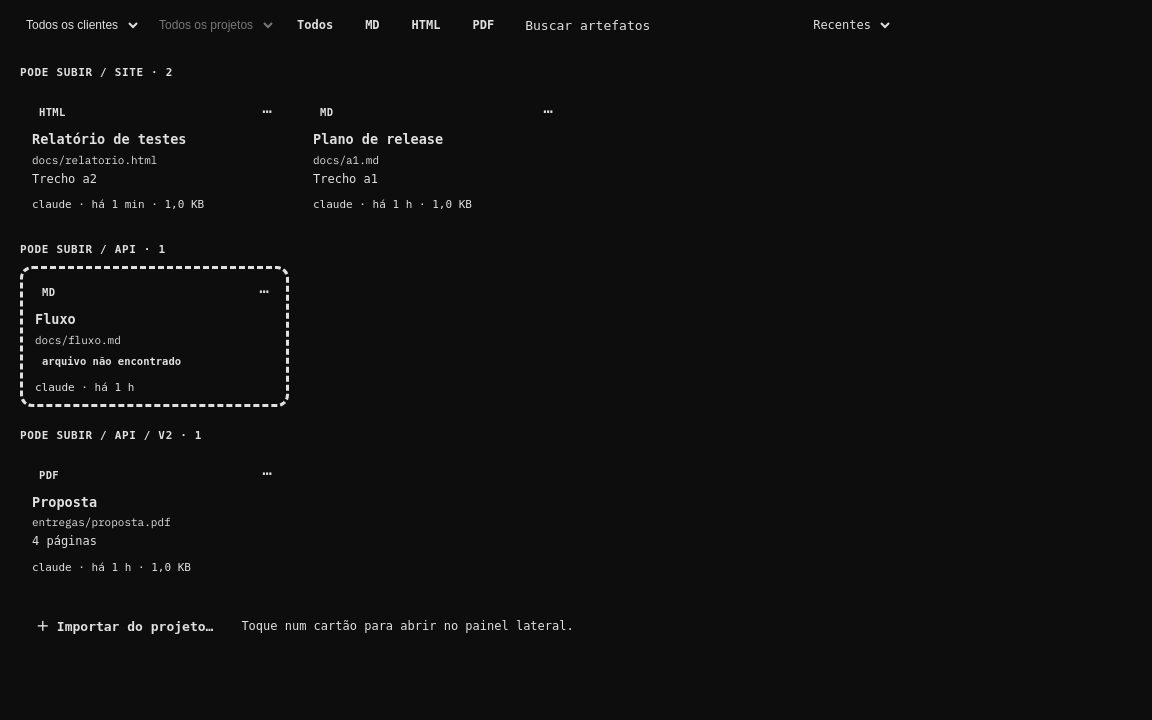
Scenario: ArtefatosV2 › celular: abrir vai direto para a tela cheia
Click the button with test id "artifact-card-a1" at (378, 139), box [301, 89, 570, 221]
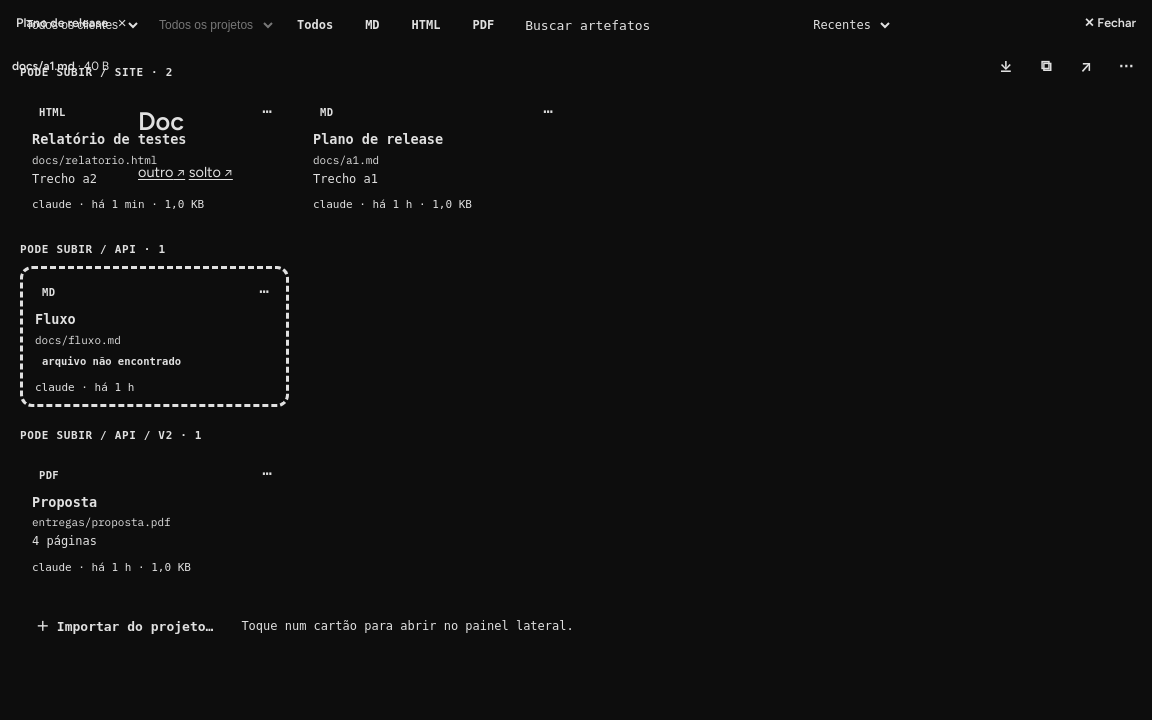
Check: the dialog with test id "viewer-fullscreen" is shown, box [12, 0, 1146, 180]
